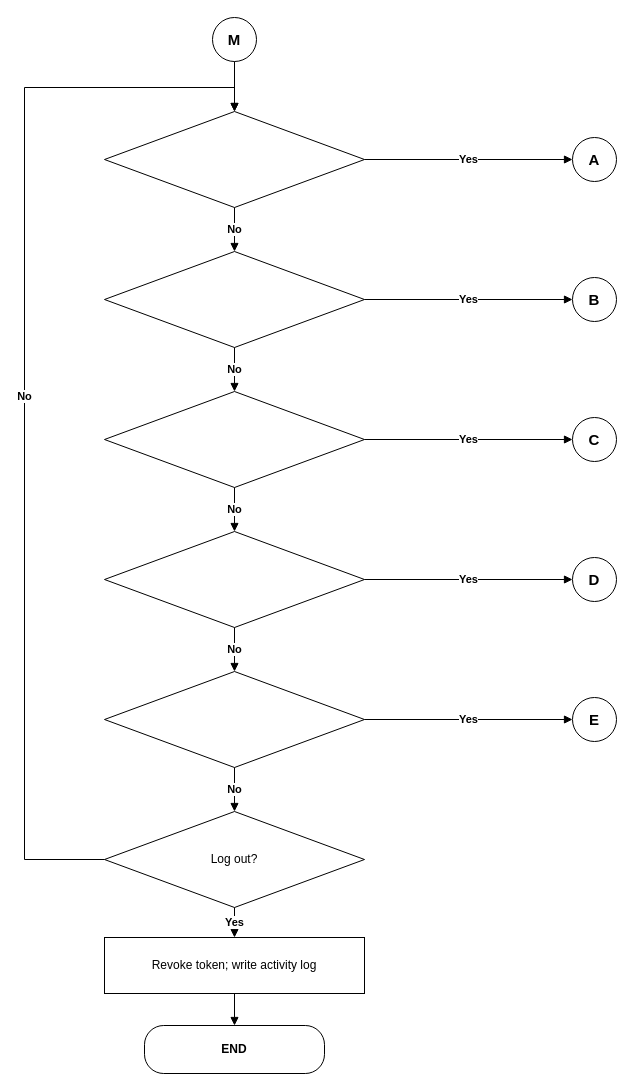
This 634x1091 diagram has some shape labels left out. The shapes that lost their labels are listed below. From the top down, each one's box as (x1, y1, x2, y2) in pixels, then its label:
(104, 110, 364, 208): Procurement?
(104, 250, 364, 348): Receiving?
(104, 390, 364, 488): Issuance?
(104, 530, 364, 628): Transfer?
(104, 670, 364, 768): Incident or warranty?
